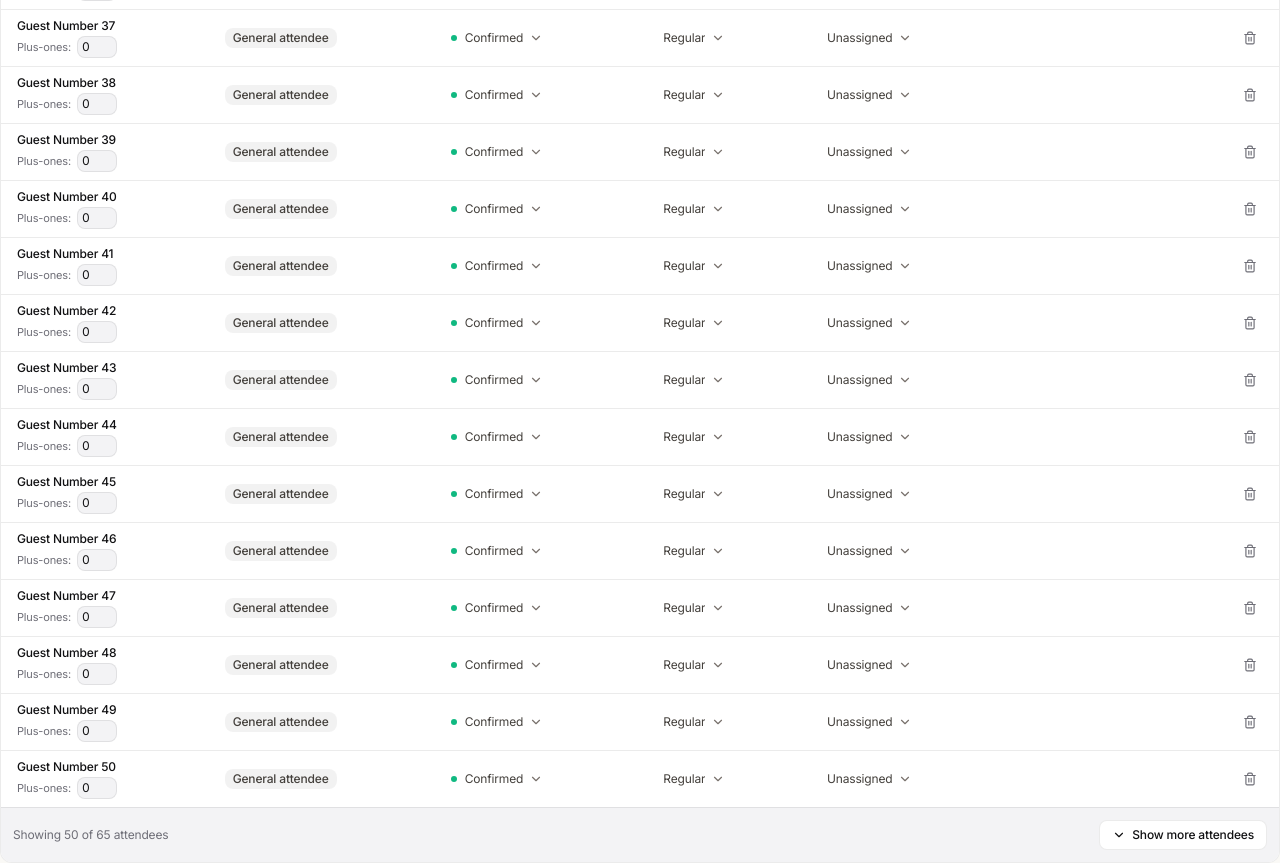
GuestsTab, Dietary Matrix & Zone Capacity › progressively displays large guest rosters (>50) with pagination controls
This screenshot has width=1280, height=863.
(page scrolled)
Check: the text "Guest Number 50" is shown, box left=17, top=759, right=116, bottom=774
Check: the text "Guest Number 51" is not shown
// Click show more
Click the button "Show more attendees" at (1183, 835), box left=1099, top=820, right=1267, bottom=850
(page scrolled)
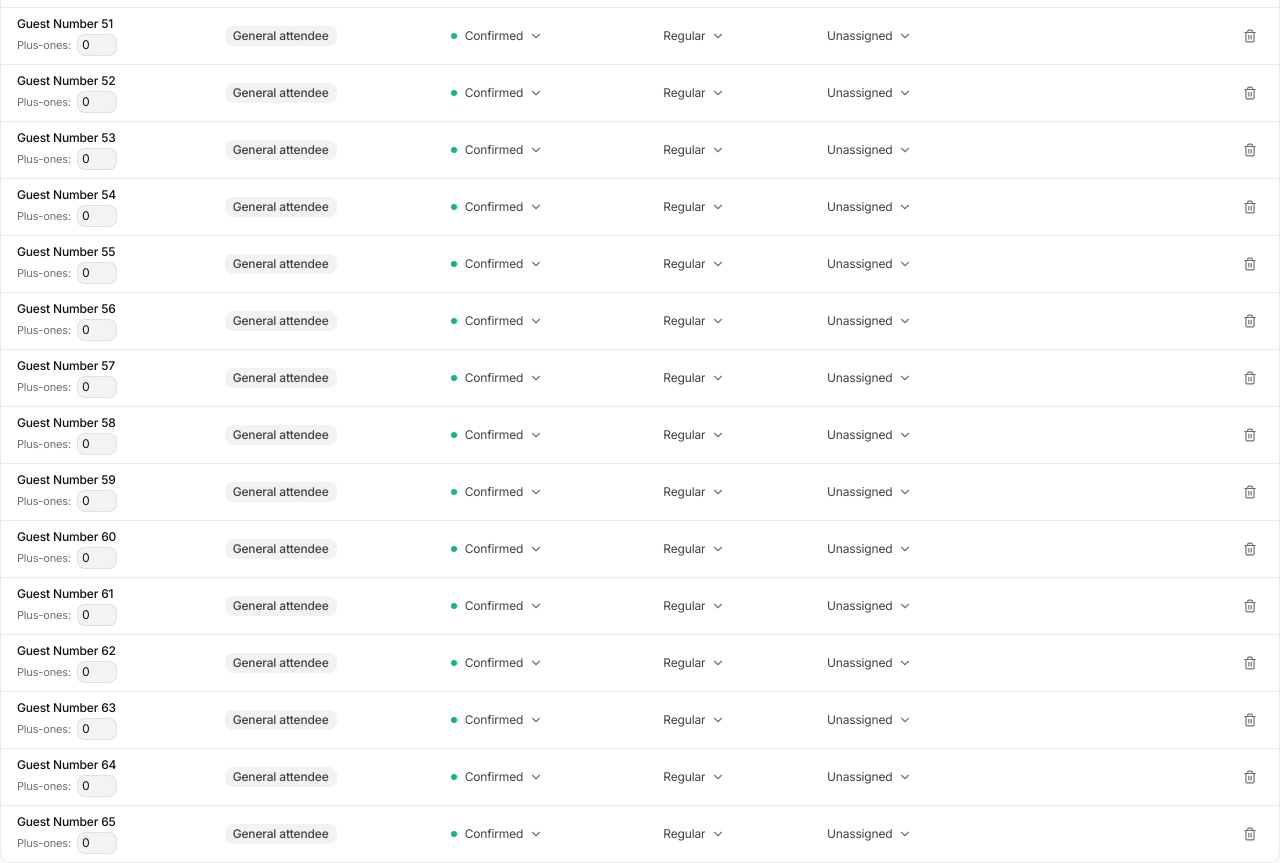
Check: the text "Guest Number 51" is shown, box left=17, top=16, right=113, bottom=31
Check: the text "Guest Number 65" is shown, box left=17, top=814, right=116, bottom=829
